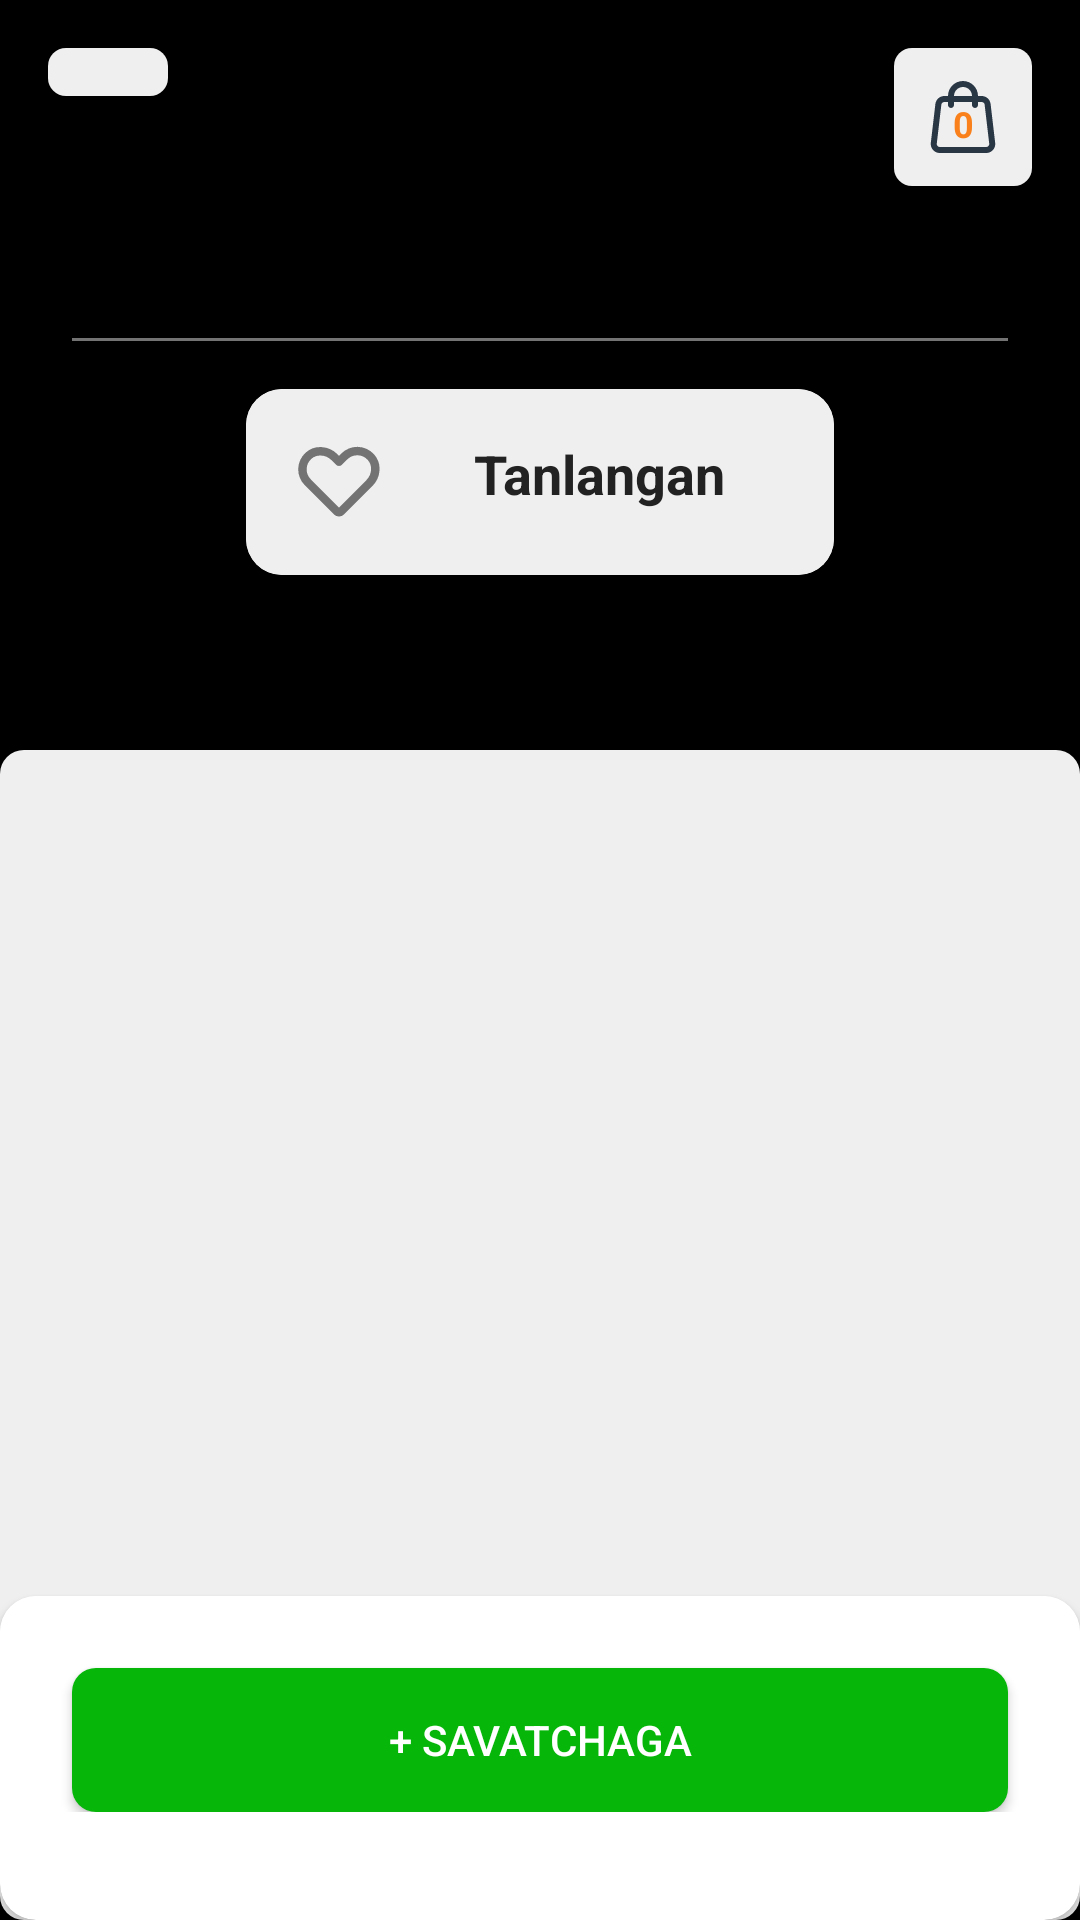

Icons on this 1080px x 1920px Android screen, each with its box as (x1, y1, x2, y2):
basket: (894, 48, 1032, 186)
heart: (298, 446, 380, 517)
